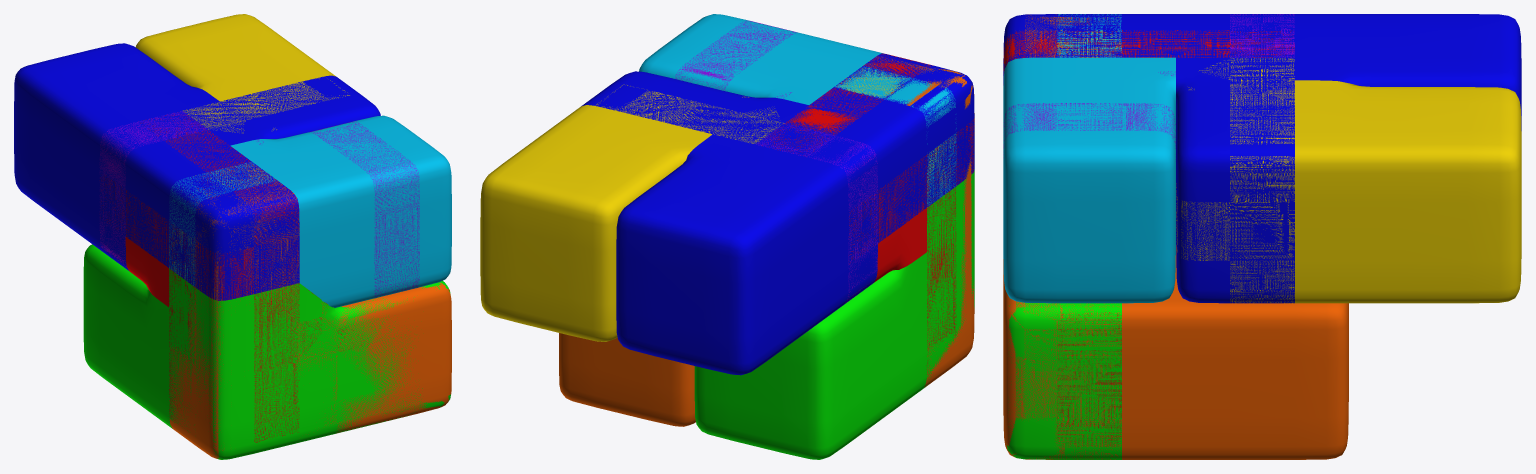
The model's file is puzzlepieces.dae.
The picture shows the model from 3 angles, left to right: view 1: azimuth 30°, elevation 25°; view 2: azimuth 150°, elevation 25°; view 3: azimuth 270°, elevation 25°; orthographic projection. The views are drawn at different scales.
Visible parts, largest first — view 1: PieceBlue, PieceGreen, PieceCyan, PieceOrange, PieceYellow, PieceRed, PieceLavender; view 2: PieceBlue, PieceYellow, PieceGreen, PieceCyan, PieceOrange, PieceRed, PieceLavender; view 3: PieceBlue, PieceYellow, PieceOrange, PieceCyan, PieceGreen, PieceRed, PieceLavender.
Boxes of the visible parts, bbox=[...] form: PieceBlue: bbox=[14, 43, 380, 300]; PieceGreen: bbox=[83, 244, 450, 459]; PieceCyan: bbox=[169, 115, 451, 307]; PieceOrange: bbox=[169, 162, 451, 459]; PieceYellow: bbox=[135, 14, 349, 278]; PieceRed: bbox=[101, 114, 368, 442]; PieceLavender: bbox=[99, 111, 419, 298]; PieceBlue: bbox=[581, 53, 974, 375]; PieceYellow: bbox=[480, 68, 956, 341]; PieceGreen: bbox=[694, 169, 974, 459]; PieceCyan: bbox=[639, 14, 956, 207]; PieceOrange: bbox=[559, 56, 974, 426]; PieceRed: bbox=[762, 53, 974, 374]; PieceLavender: bbox=[675, 20, 877, 302]; PieceBlue: bbox=[1003, 14, 1521, 303]; PieceYellow: bbox=[1057, 30, 1521, 303]; PieceOrange: bbox=[1003, 14, 1348, 459]; PieceCyan: bbox=[1003, 14, 1175, 303]; PieceGreen: bbox=[1006, 301, 1121, 459]; PieceRed: bbox=[1003, 30, 1294, 446]; PieceLavender: bbox=[1003, 14, 1294, 159].
Bounding box in the file's own units: 4 × 6 × 4.
